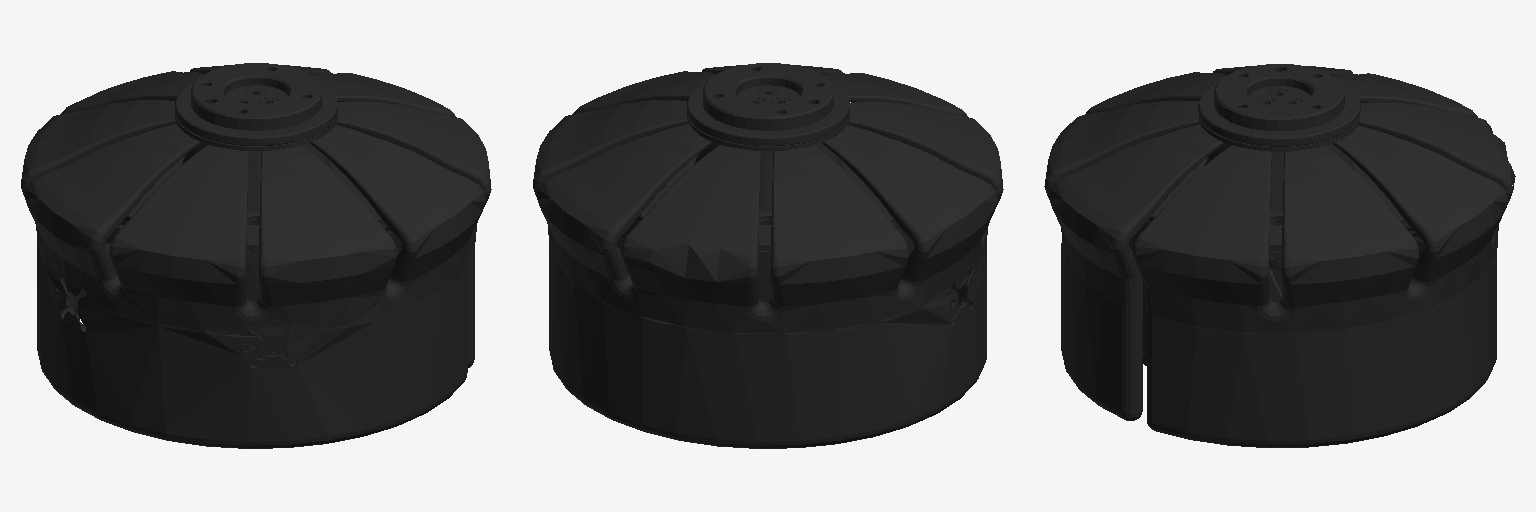
URDF robot description (kuka_airskin_safetyflange_20):
<?xml version="1.0"?>
<robot name="kuka_airskin_safetyflange_20">
  <material name="kuka_orange"><color rgba="1.00 0.40 0.00 1.0"/></material>
  <material name="kuka_dark_gray"><color rgba="0.20 0.20 0.20 1.0"/></material>

  <link name="base_link">
    <inertial>
      <origin xyz="0.000456 0.000762 0.060825" rpy="0 0 0"/>
      <mass value="160.000"/>
      <inertia ixx="0.576894" ixy="-0.001368" ixz="0.000047" iyy="0.571770" iyz="0.002231" izz="0.705175"/>
    </inertial>
    <visual>
      <origin xyz="0 0 0" rpy="0 0 0"/>
      <geometry><mesh filename="meshes/visual/base_link.stl"/></geometry>
      <material name="kuka_dark_gray"/>
    </visual>
    <collision>
      <origin xyz="0 0 0" rpy="0 0 0"/>
      <geometry><mesh filename="meshes/visual/base_link.stl"/></geometry>
    </collision>
  </link>

  <link name="tool0"/>

  <joint name="base_link-tool0" type="fixed">
    <parent link="base_link"/>
    <child link="tool0"/>
    <origin xyz="0.000000 0.000000 0.000000" rpy="0 1.57079632679 0"/>
  </joint>
</robot>

--- Render facts (derived) ---
The picture shows the robot from 3 angles, left to right: view 1: azimuth 30°, elevation 25°; view 2: azimuth 150°, elevation 25°; view 3: azimuth 270°, elevation 25°; orthographic projection.
Robot: kuka_airskin_safetyflange_20 — 2 links, 1 joints (1 fixed); root link base_link; default pose: all joints at 0.
Links seen in each view (by area): view 1: base_link; view 2: base_link; view 3: base_link.
Boxes of the visible links, x1,y1,x2,y2 form: base_link: (21, 63, 491, 448); base_link: (533, 63, 1003, 448); base_link: (1044, 64, 1515, 447).
Bounding box of the posed robot: 0.2253 × 0.2264 × 0.1433 m (x, y, z).
1 mesh visuals loaded from 1 distinct referenced files (1 binary STL).
